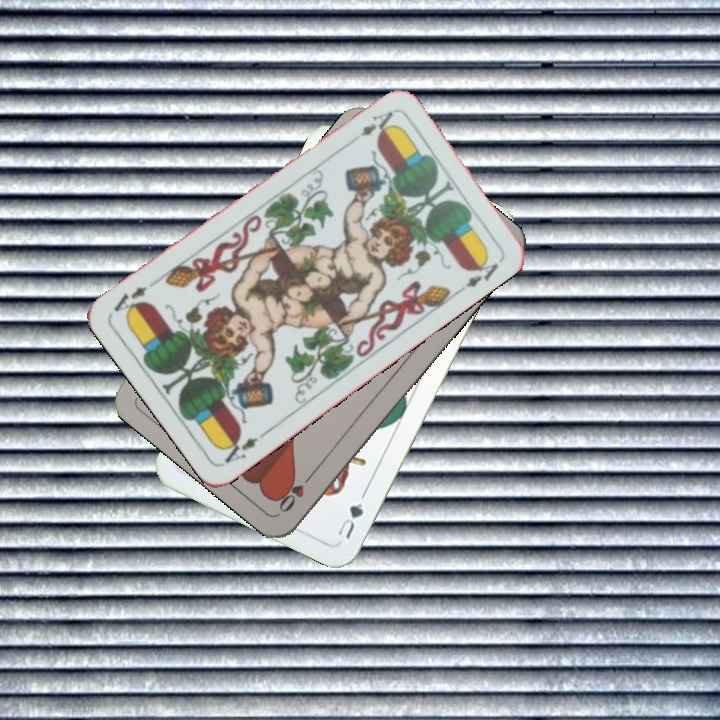EA: (344, 106, 396, 148), (218, 426, 270, 466)
GU: (333, 496, 366, 542)
HO: (275, 466, 318, 516)
